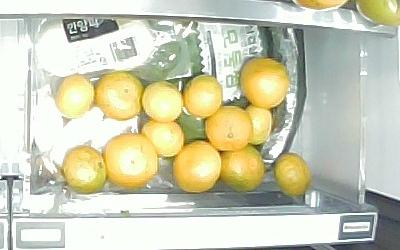tangerine: (103, 133, 157, 189), (239, 56, 291, 107), (174, 140, 222, 194), (95, 71, 145, 120), (218, 142, 266, 192), (204, 106, 253, 151), (63, 146, 107, 194), (54, 74, 95, 118), (273, 152, 312, 198), (183, 74, 222, 118), (142, 81, 182, 122), (141, 119, 183, 156), (244, 105, 272, 145)
